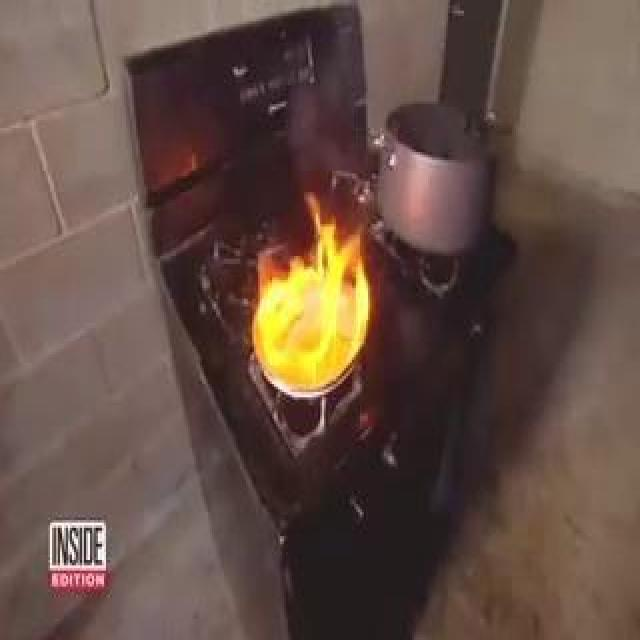Fire: (246, 165, 386, 411)
